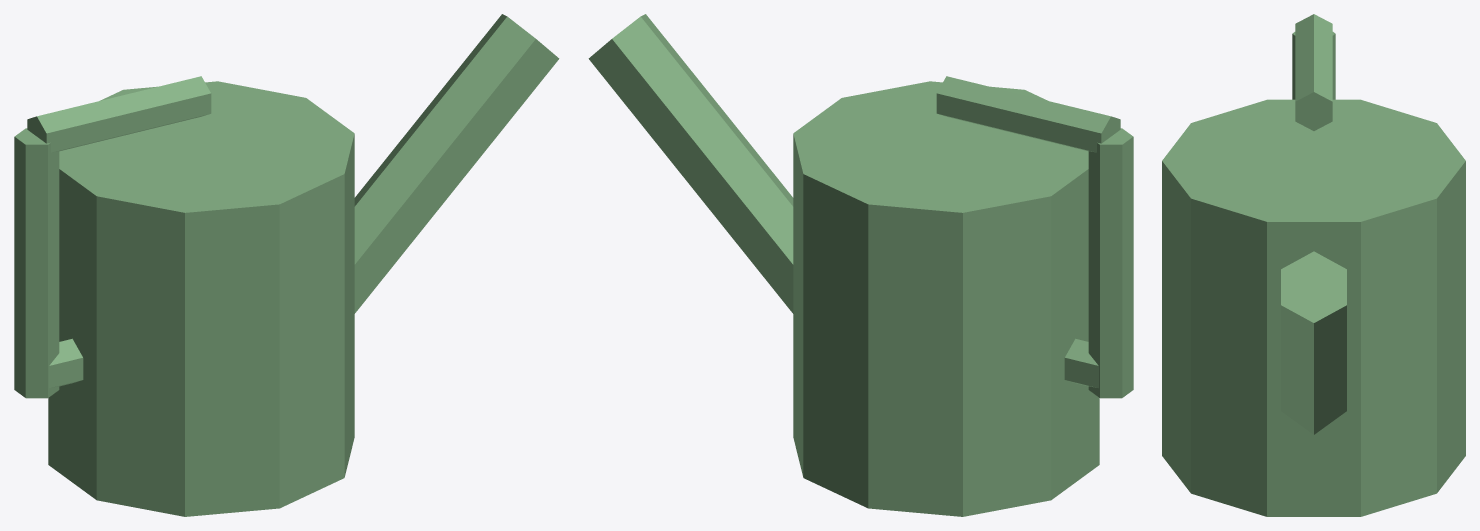
3 renders of one model, left to right at view 1: azimuth 30°, elevation 25°; view 2: azimuth 150°, elevation 25°; view 3: azimuth 270°, elevation 25°, orthographic. The views are drawn at different scales.
Parts seen in each view (by area): view 1: Can, Spout, Handle, Handle top, Handle lower bridge; view 2: Can, Spout, Handle, Handle top, Handle lower bridge; view 3: Can, Spout, Handle top, Handle.
Part boxes in pixels (x1=…): Can: x1=48, y1=81, x2=354, y2=516; Spout: x1=354, y1=14, x2=559, y2=313; Handle: x1=14, y1=128, x2=59, y2=398; Handle top: x1=27, y1=76, x2=211, y2=152; Handle lower bridge: x1=49, y1=338, x2=83, y2=388; Can: x1=793, y1=81, x2=1099, y2=516; Spout: x1=588, y1=14, x2=793, y2=313; Handle: x1=1088, y1=128, x2=1133, y2=398; Handle top: x1=936, y1=76, x2=1120, y2=152; Handle lower bridge: x1=1064, y1=338, x2=1098, y2=388; Can: x1=1162, y1=99, x2=1465, y2=516; Spout: x1=1281, y1=251, x2=1346, y2=434; Handle top: x1=1295, y1=14, x2=1332, y2=130; Handle: x1=1292, y1=32, x2=1335, y2=99.
Size of the model in its own units: 55.15 by 37 by 28.
